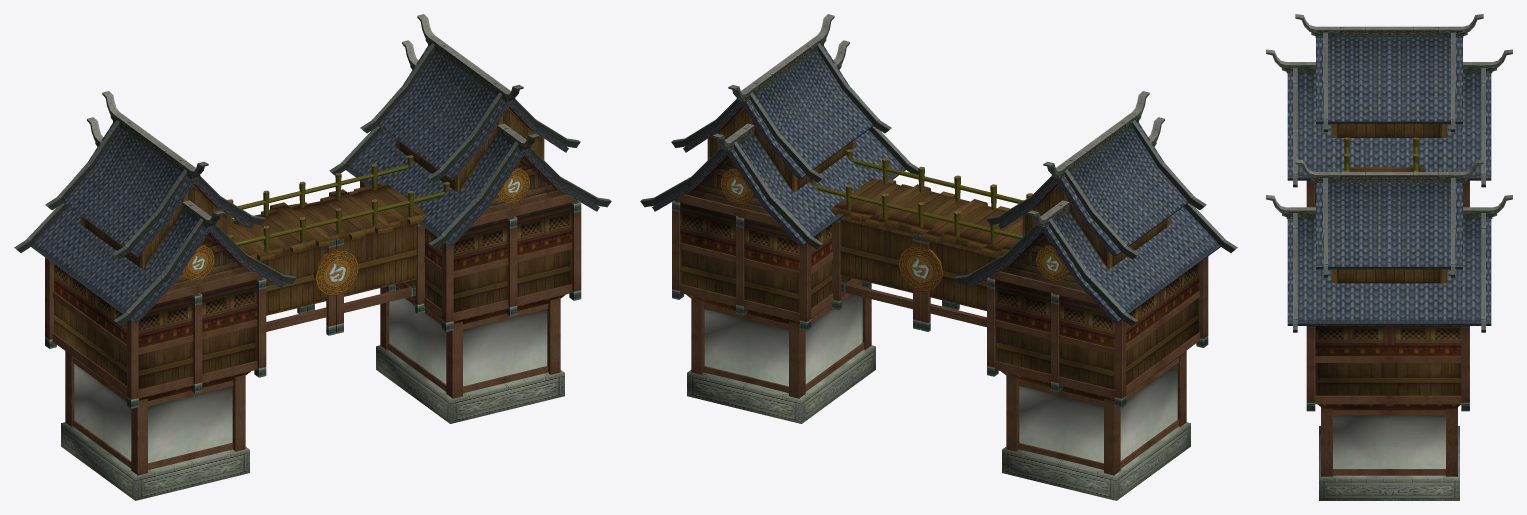
File: Yland3_fzi_03 Yland3.FBX
The picture shows the model from 3 angles, left to right: view 1: azimuth 30°, elevation 25°; view 2: azimuth 150°, elevation 25°; view 3: azimuth 270°, elevation 25°; orthographic projection. The views are drawn at different scales.
Visible parts, largest first — view 1: Yland3_fzi_03 Yland3; view 2: Yland3_fzi_03 Yland3; view 3: Yland3_fzi_03 Yland3.
Boxes of the visible parts, x1,y1,x2,y2 form: Yland3_fzi_03 Yland3: (14,14,611,500); Yland3_fzi_03 Yland3: (640,14,1237,500); Yland3_fzi_03 Yland3: (1266,14,1512,500).
Bounding box in the file's own units: 7.83 × 5 × 3.57.
